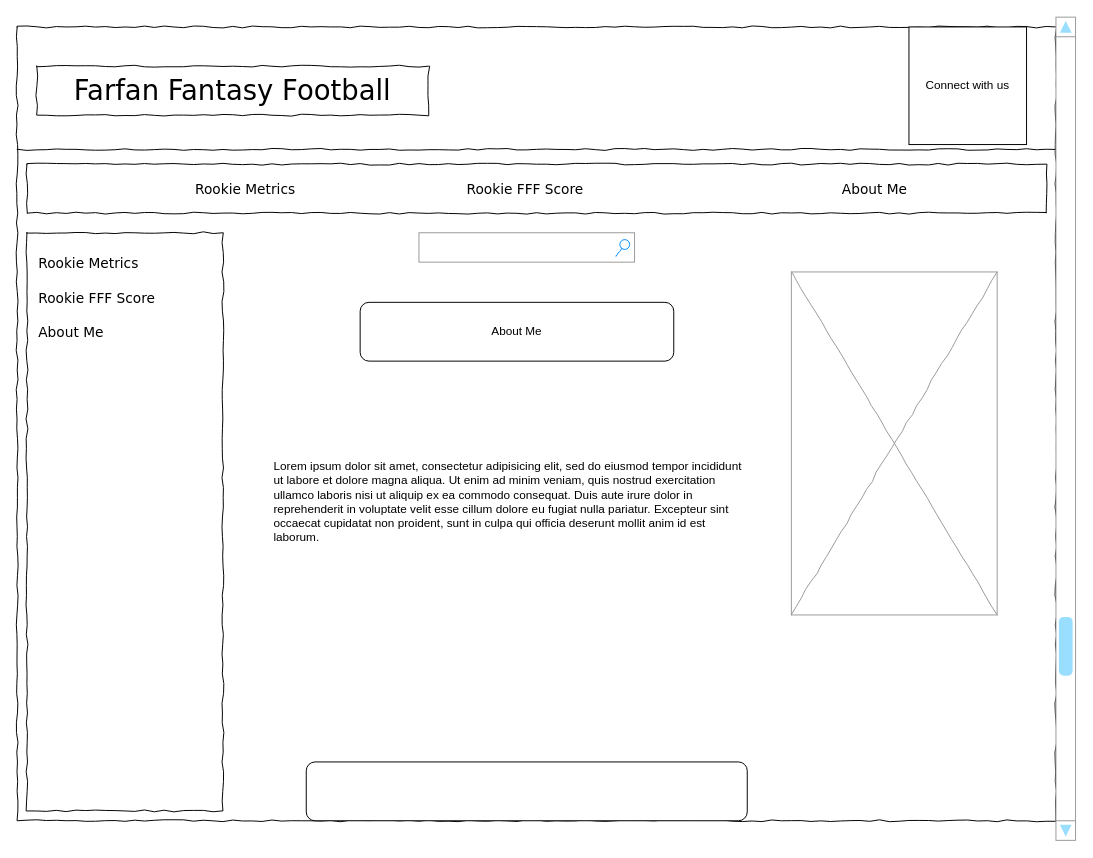
The diagram is 1093 pixels wide and 858 high, and some of its shapes have lost their labels. The shapes that lost their labels are listed below. From the top down, each one's centre as x and y in pixels, then its label:
At (526,247): "Search".
At (526,791): "logo (footer)".
